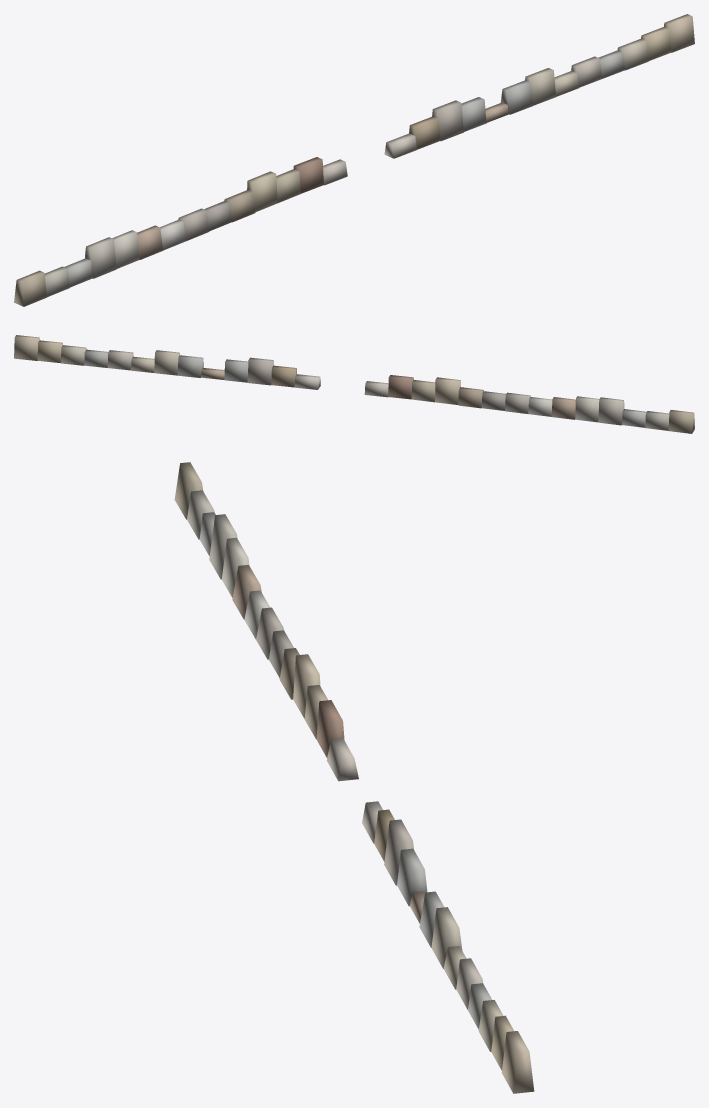
Rendered from farm_-37_-35_collision.glb.
3 renders of one model, top to bottom at view 1: azimuth 30°, elevation 25°; view 2: azimuth 150°, elevation 25°; view 3: azimuth 270°, elevation 25°, orthographic. The views are drawn at different scales.
Visible parts, largest first — view 1: geometry_0; view 2: geometry_0; view 3: geometry_0.
Boxes of the visible parts, x1,y1,x2,y2 form: geometry_0: (14,14,694,306); geometry_0: (14,335,694,433); geometry_0: (174,462,534,1093).
Size of the model in its own units: 43.97 by 2.08 by 11.5.
